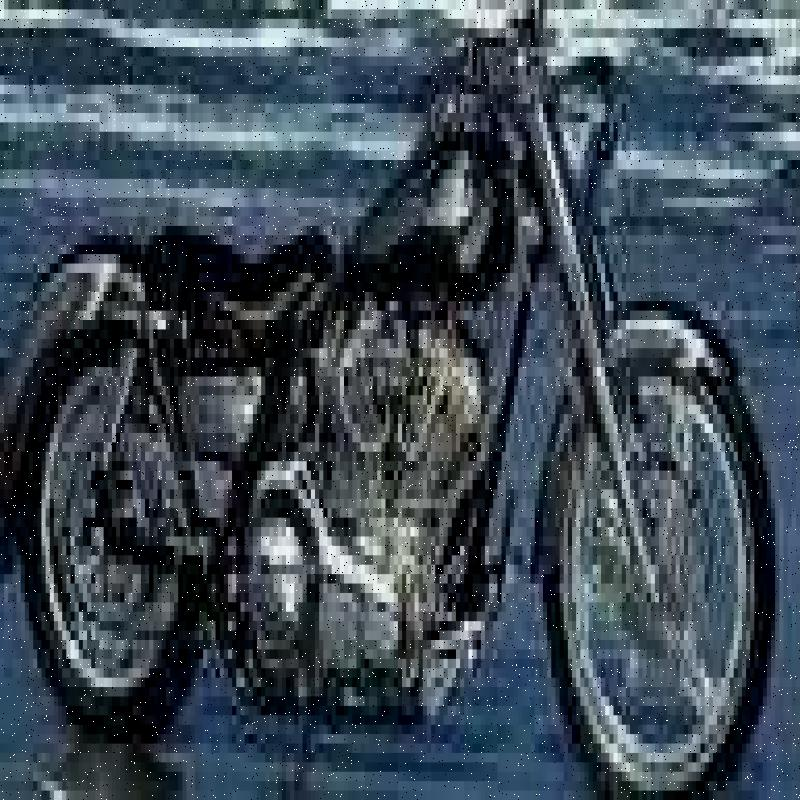bike: (8, 23, 800, 756)
